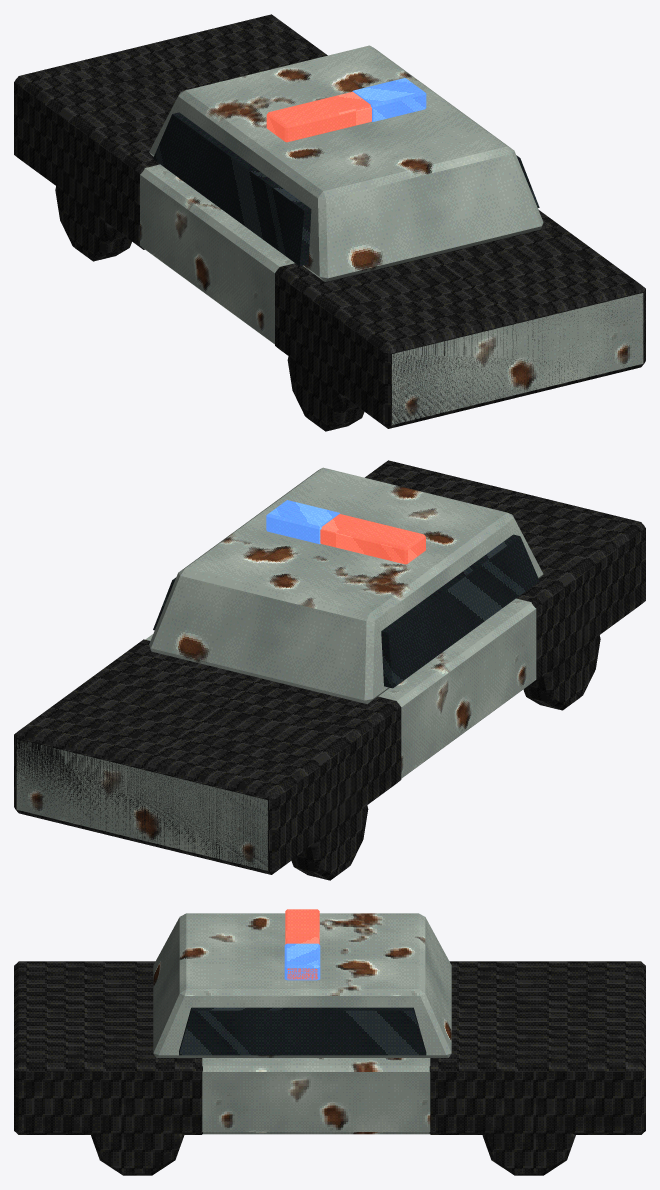
The model's file is ext_police_car.glb.
3 views of the same model, one above another, from view 1: azimuth 30°, elevation 25°; view 2: azimuth 150°, elevation 25°; view 3: azimuth 270°, elevation 25° (orthographic). The views are drawn at different scales.
Parts seen in each view (by area): view 1: ext_police_car_mesh; view 2: ext_police_car_mesh; view 3: ext_police_car_mesh.
Part boxes in pixels (left/top/right/bottom): ext_police_car_mesh: left=14, top=14, right=645, bottom=431; ext_police_car_mesh: left=14, top=460, right=645, bottom=880; ext_police_car_mesh: left=14, top=909, right=645, bottom=1175.
Size of what is drawn, in the model's own units: 1.86 by 1.5 by 4.6.
Materials: 5 (5 with a texture image).
